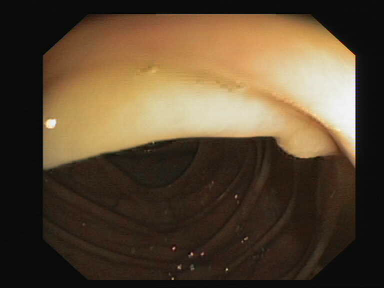polyp: (271, 114, 342, 173)
